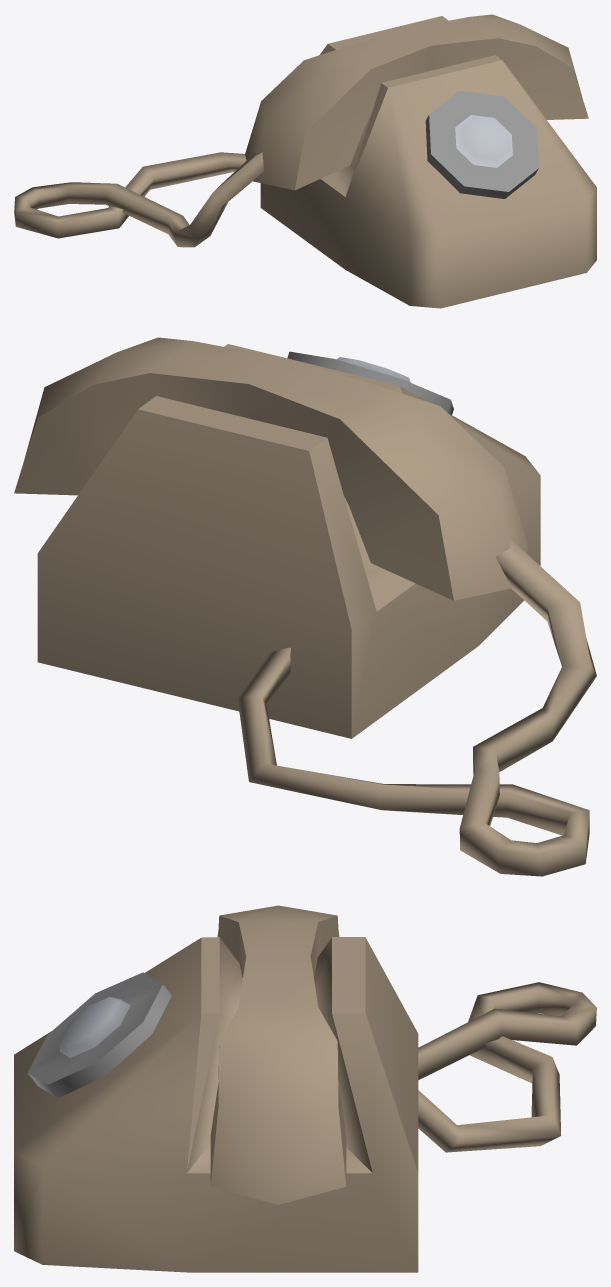
Rendered from SM_Prop_Phone_Rotary_01.obj.
The picture shows the model from 3 angles, top to bottom: view 1: azimuth 30°, elevation 25°; view 2: azimuth 150°, elevation 25°; view 3: azimuth 270°, elevation 25°; orthographic projection. The views are drawn at different scales.
Parts seen in each view (by area): view 1: SM_Prop_Phone_Rotary_01_Mat_SwatchOverlay_PolygonOffice_01_Inst; view 2: SM_Prop_Phone_Rotary_01_Mat_SwatchOverlay_PolygonOffice_01_Inst; view 3: SM_Prop_Phone_Rotary_01_Mat_SwatchOverlay_PolygonOffice_01_Inst.
Part boxes in pixels (x1,y1,x2,y2): SM_Prop_Phone_Rotary_01_Mat_SwatchOverlay_PolygonOffice_01_Inst: (14,14,596,308); SM_Prop_Phone_Rotary_01_Mat_SwatchOverlay_PolygonOffice_01_Inst: (14,337,596,876); SM_Prop_Phone_Rotary_01_Mat_SwatchOverlay_PolygonOffice_01_Inst: (14,905,596,1272).
Bounding box in the file's own units: 0.4451 × 0.1672 × 0.3491.
Materials: 1 (1 with a texture image).
